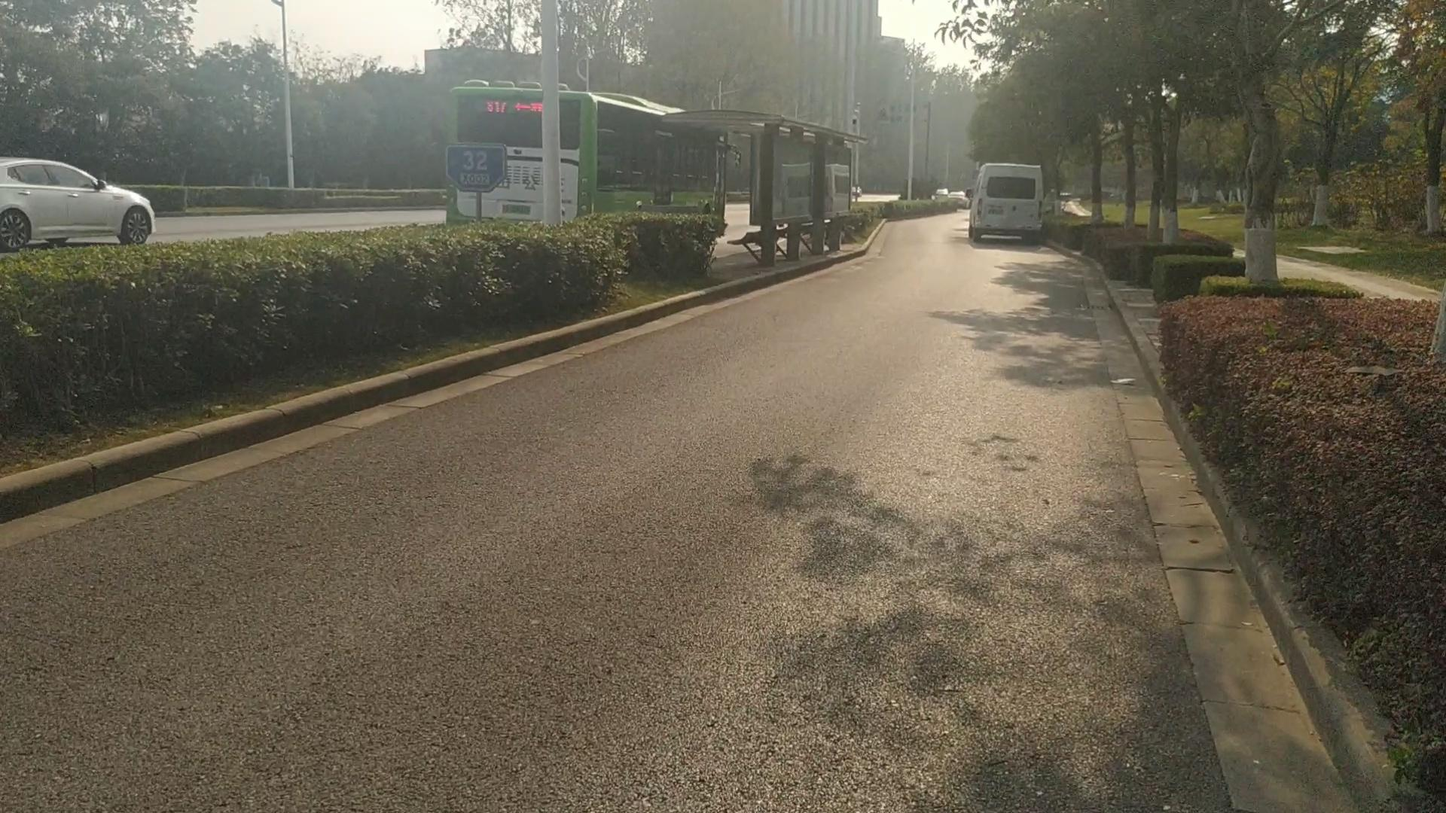car: (0, 158, 155, 254), (1060, 196, 1091, 221)
